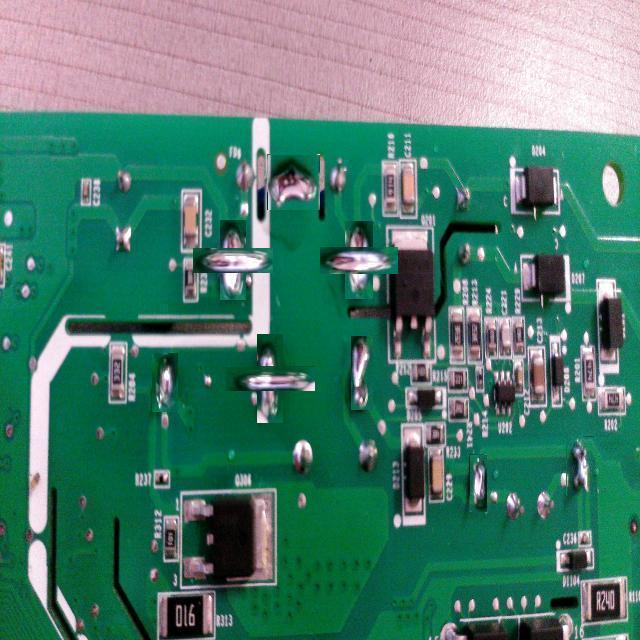Short_circuit: (242, 350, 299, 407), (267, 154, 320, 210), (332, 234, 386, 286), (207, 234, 260, 286), (566, 436, 594, 496), (351, 336, 373, 410), (152, 354, 178, 414), (469, 454, 487, 512)
